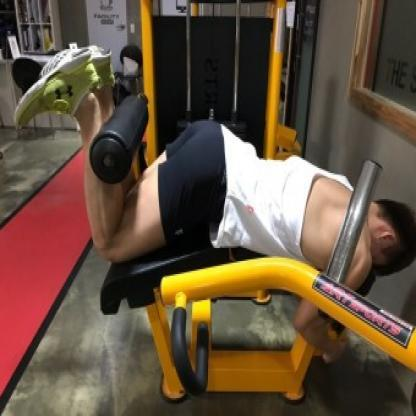reg curl machine: (11, 0, 416, 408)
